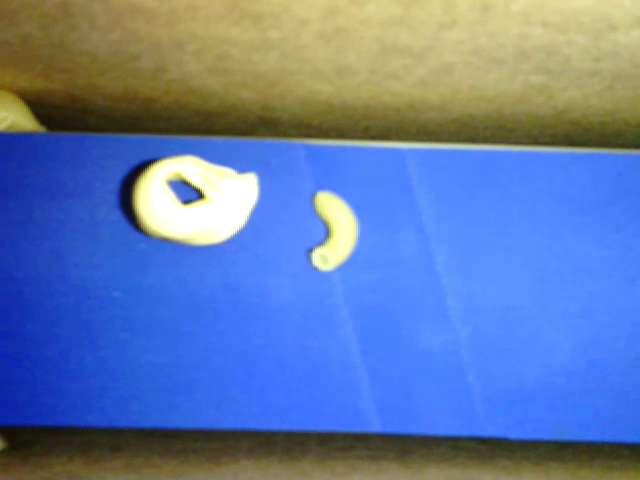elbow: (310, 189, 358, 271)
shell: (1, 89, 50, 133)
tortellini: (130, 153, 258, 245)
